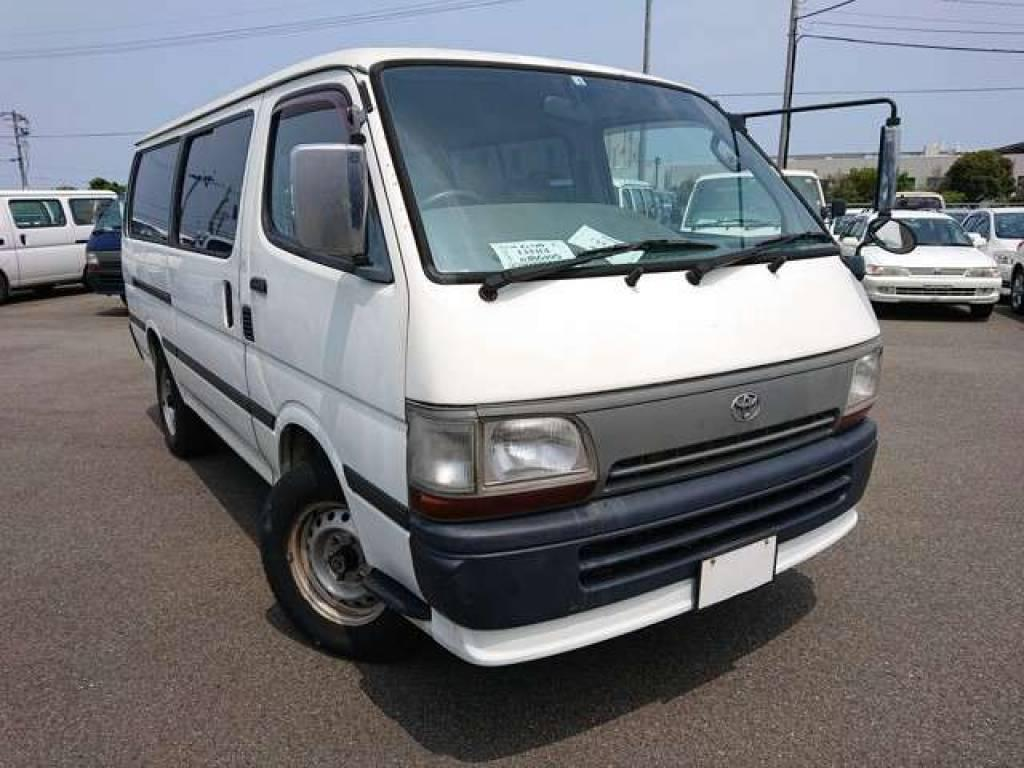Van: (125, 54, 890, 650)
